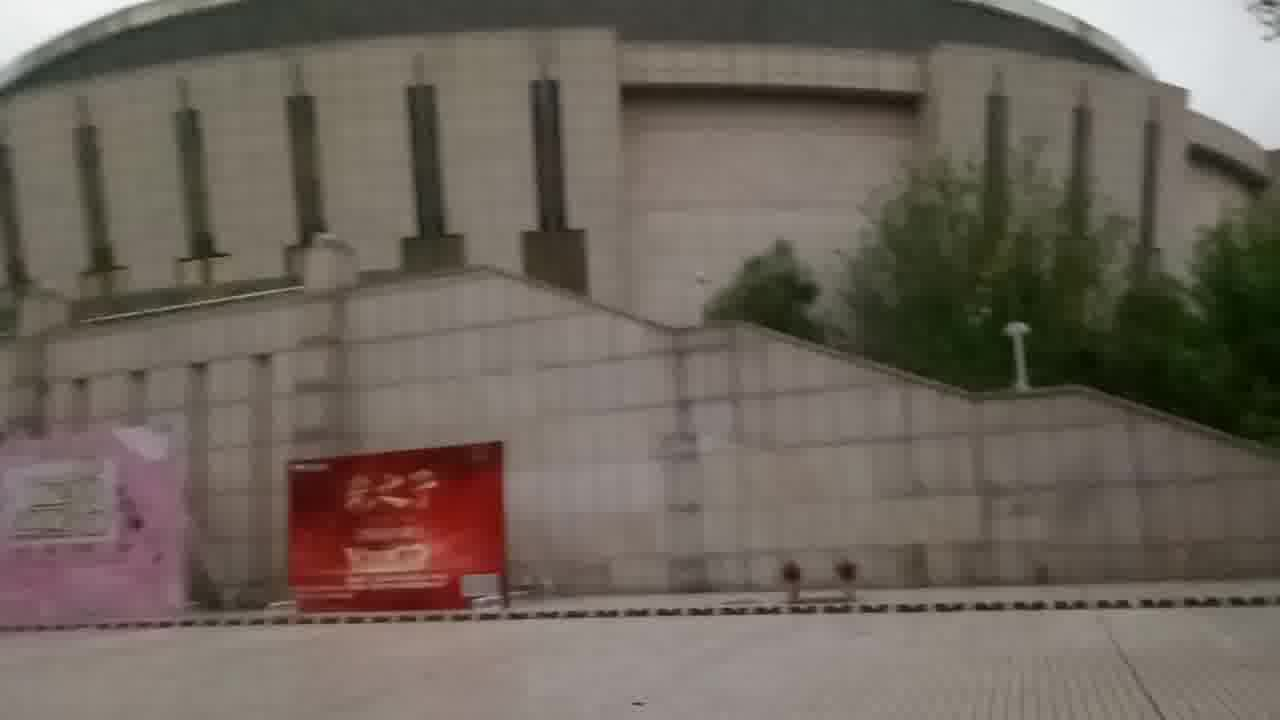zhongtiww: (4, 1, 1278, 633)
